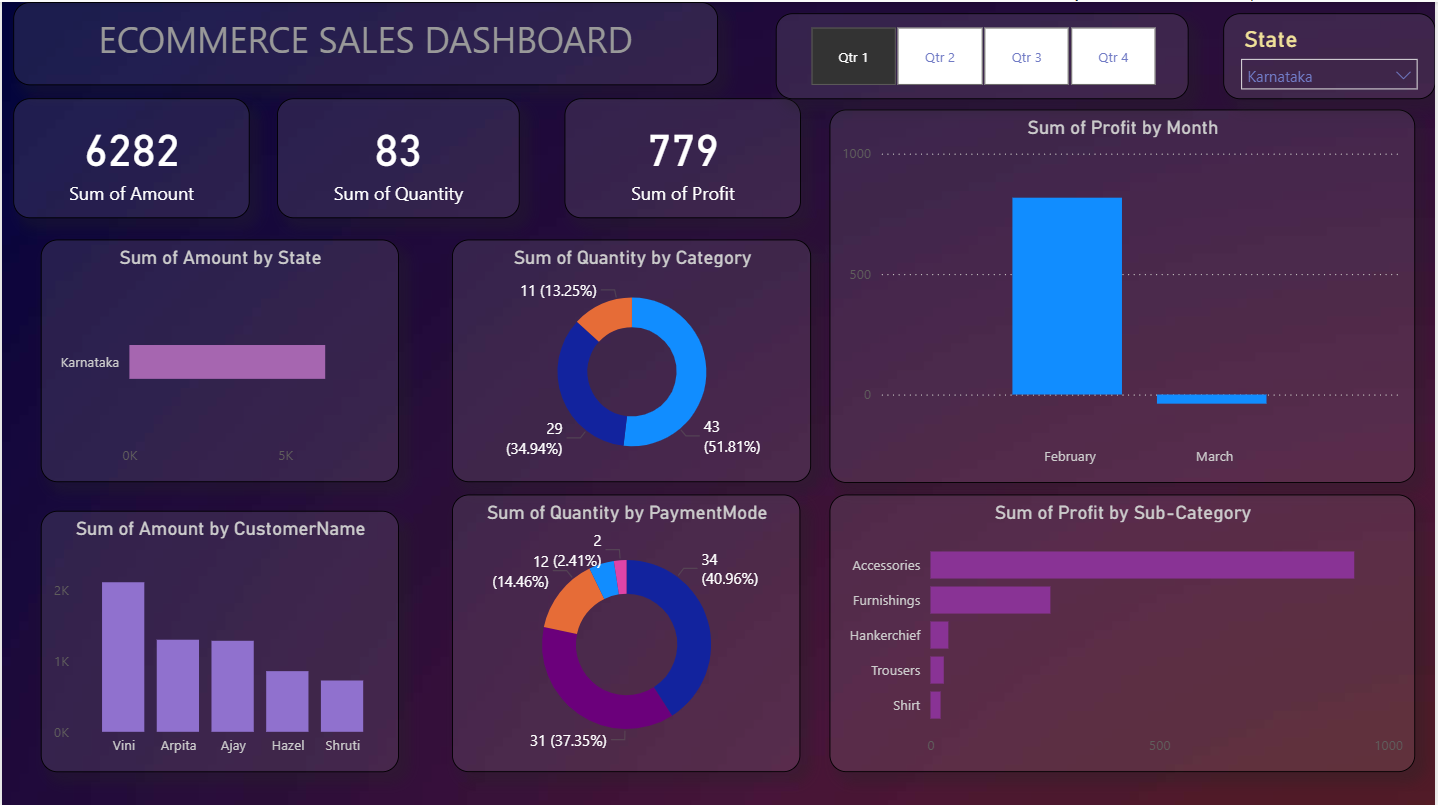

This screenshot's page, from the dashboard's own definition file:
{"tool":"powerbi","page":{"name":"Page 1","canvas":[1280,720],"ordinal":0},"visuals":[{"type":"textbox","box":[9.6,0,629.8,74.1],"z":0},{"type":"columnChart","fields":{"Category":["Orders.Order Date.Variation.Date Hierarchy.Month"],"Y":["Sum(Details.Profit)"]},"box":[739.6,96.1,522.8,333.4],"z":1000},{"type":"barChart","fields":{"Category":["Details.Sub-Category"],"Y":["Sum(Details.Profit)"]},"box":[739.6,440.5,522.8,248.4],"z":2000},{"type":"donutChart","fields":{"Category":["Details.Category"],"Y":["Sum(Details.Quantity)"]},"box":[402.1,212.7,321.1,216.8],"z":3000},{"type":"donutChart","fields":{"Y":["Sum(Details.Quantity)"],"Category":["Details.PaymentMode"]},"box":[402.1,440.5,311.5,248.4],"z":4000},{"type":"card","fields":{"Values":["Sum(Details.Amount)"]},"box":[9.6,86.4,211.3,107],"z":5000},{"type":"card","fields":{"Values":["Sum(Details.Quantity)"]},"box":[245.6,86.4,216.8,107],"z":6000},{"type":"card","fields":{"Values":["Sum(Details.Profit)"]},"box":[502.2,86.4,211.3,107],"z":7000},{"type":"barChart","fields":{"Category":["Orders.State"],"Y":["Sum(Details.Amount)"]},"box":[34.3,212.7,319.7,216.8],"z":8000},{"type":"columnChart","fields":{"Category":["Orders.CustomerName"],"Y":["Sum(Details.Amount)"]},"box":[34.3,454.2,319.7,233.3],"z":9000},{"type":"slicer","fields":{"Values":["Orders.Order Date.Variation.Date Hierarchy.Quarter"]},"box":[691.6,9.6,369.1,76.8],"z":10000},{"type":"slicer","fields":{"Values":["Orders.State"]},"box":[1090.9,9.6,189.4,76.8],"z":10001}]}

Visuals, with their boxes in screenshot pixels (x1, y1, x2, y2), scaled from the page's 1280x720 canvas onto the 1438x805 screenshot:
textbox: 11, 0, 718, 83
columnChart - Orders.Order Date.Variation.Date Hierarchy.Month x Sum(Details.Profit): 831, 107, 1418, 480
barChart - Details.Sub-Category x Sum(Details.Profit): 831, 493, 1418, 770
donutChart - Details.Category x Sum(Details.Quantity): 452, 238, 812, 480
donutChart - Sum(Details.Quantity) x Details.PaymentMode: 452, 493, 802, 770
card - Sum(Details.Amount): 11, 97, 248, 216
card - Sum(Details.Quantity): 276, 97, 519, 216
card - Sum(Details.Profit): 564, 97, 802, 216
barChart - Orders.State x Sum(Details.Amount): 39, 238, 398, 480
columnChart - Orders.CustomerName x Sum(Details.Amount): 39, 508, 398, 769
slicer - Orders.Order Date.Variation.Date Hierarchy.Quarter: 777, 11, 1192, 97
slicer - Orders.State: 1226, 11, 1437, 97
